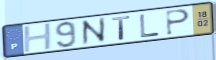9: (54, 20, 78, 49)
H: (22, 22, 54, 54)
L: (139, 13, 162, 38)
N: (80, 16, 109, 47)
P: (164, 8, 191, 37)
T: (110, 14, 132, 41)
